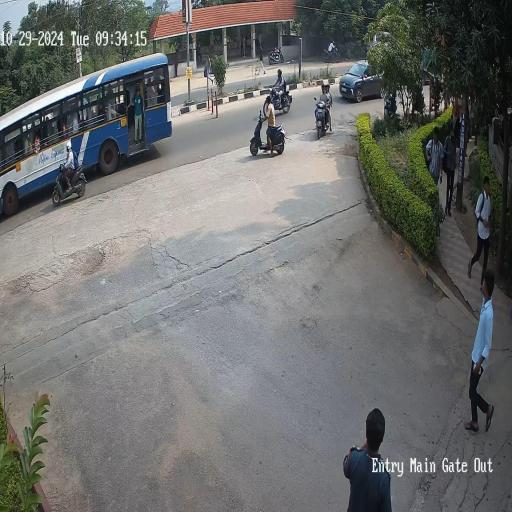helmet: (59, 135, 84, 166), (275, 68, 286, 84)
no helmet: (263, 94, 276, 112)
triple riding: (313, 82, 338, 137)
